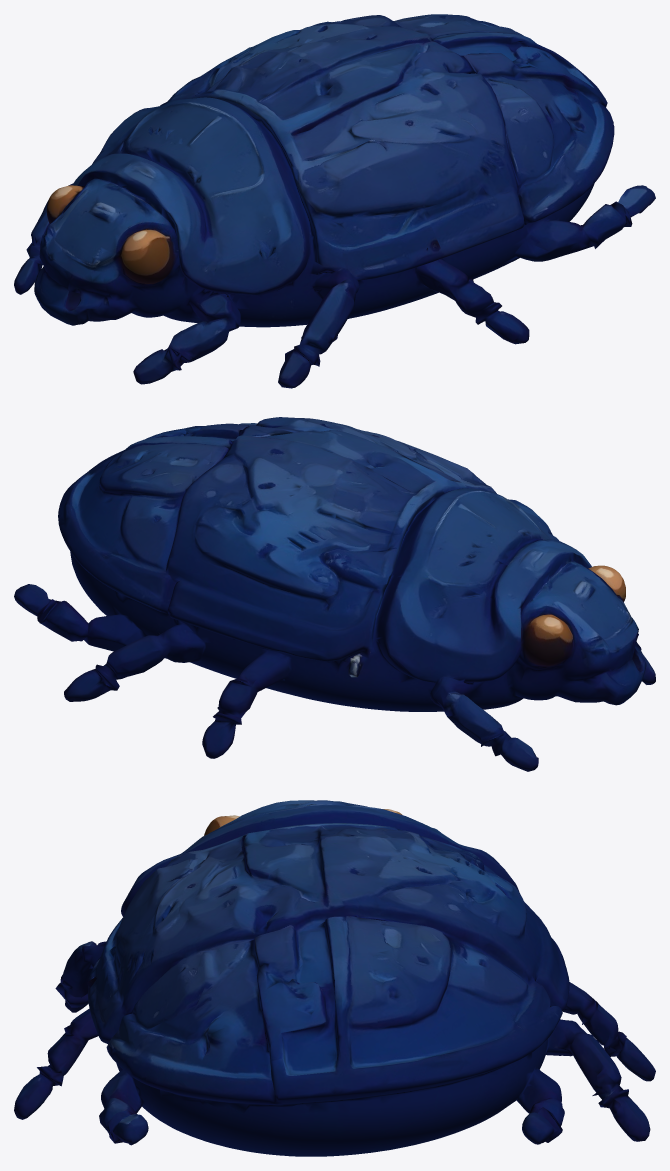
File: ink-beetle.glb
The picture shows the model from 3 angles, top to bottom: view 1: azimuth 30°, elevation 25°; view 2: azimuth 150°, elevation 25°; view 3: azimuth 270°, elevation 25°; orthographic projection. The views are drawn at different scales.
Visible parts, largest first — view 1: tripo_node_5a64d875-bb61-4798-8c67-bdb87a89b852; view 2: tripo_node_5a64d875-bb61-4798-8c67-bdb87a89b852; view 3: tripo_node_5a64d875-bb61-4798-8c67-bdb87a89b852.
Part boxes in pixels (x1=…): tripo_node_5a64d875-bb61-4798-8c67-bdb87a89b852: x1=14, y1=14, x2=655, y2=388; tripo_node_5a64d875-bb61-4798-8c67-bdb87a89b852: x1=14, y1=417, x2=655, y2=771; tripo_node_5a64d875-bb61-4798-8c67-bdb87a89b852: x1=14, y1=800, x2=655, y2=1156.
Bounding box in the file's own units: 0.9783 × 0.3726 × 0.8352.
1 material, 1 textured.
